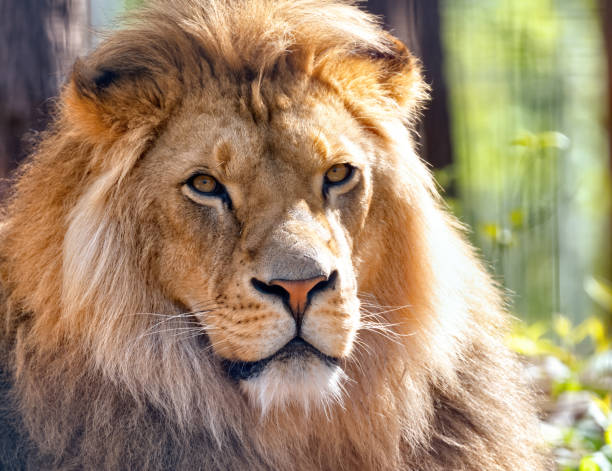lion: (2, 3, 556, 471)
